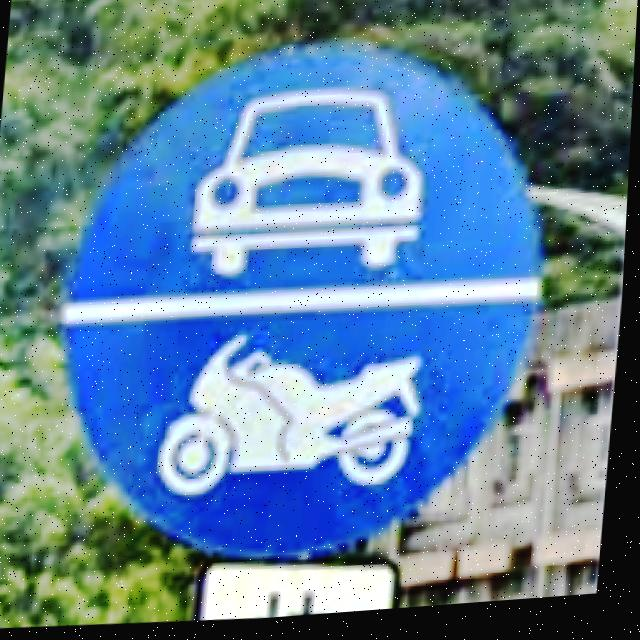carmotorcycle: (66, 54, 541, 559)
